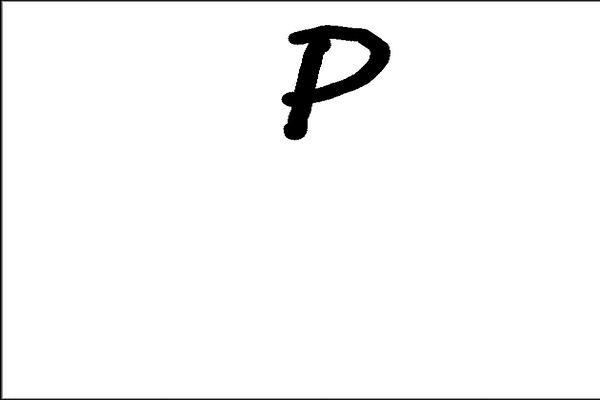P: (272, 13, 393, 146)
